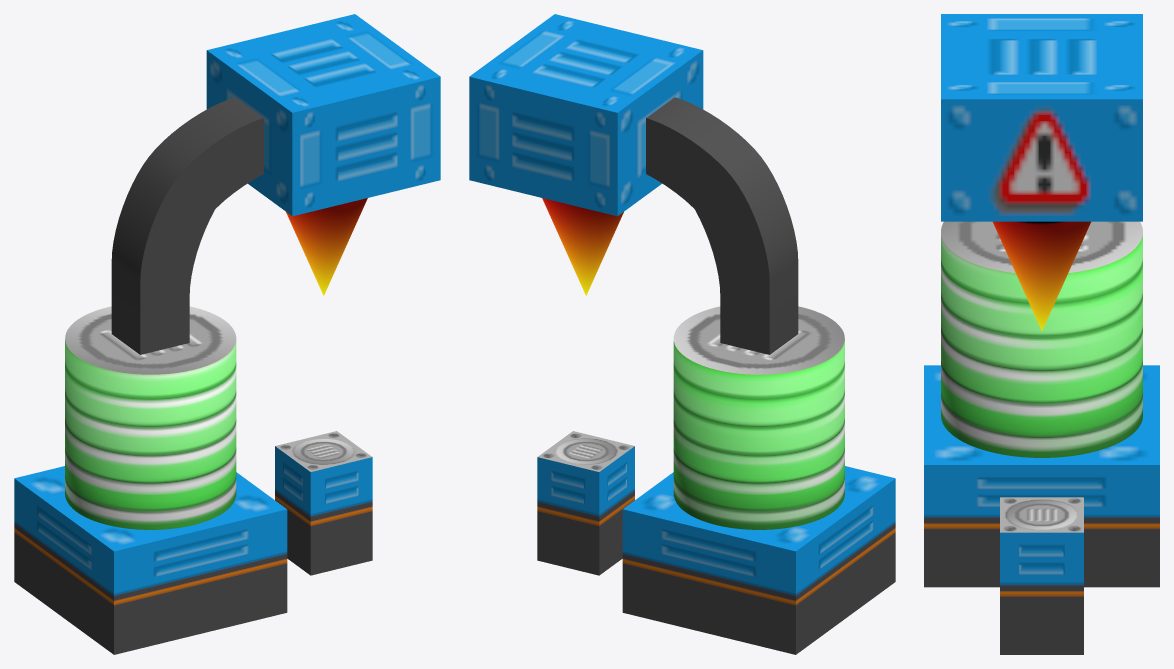
Rendered from energy.obj.
3 views of the same model, side by side, from view 1: azimuth 30°, elevation 25°; view 2: azimuth 150°, elevation 25°; view 3: azimuth 270°, elevation 25° (orthographic). The views are drawn at different scales.
Parts seen in each view (by area): view 1: ColobotMesh_1_ColobotMesh_, Bateria_ColobotMesh_.001, Elektroda_ColobotMesh_.002; view 2: ColobotMesh_1_ColobotMesh_, Bateria_ColobotMesh_.001, Elektroda_ColobotMesh_.002; view 3: ColobotMesh_1_ColobotMesh_, Bateria_ColobotMesh_.001, Elektroda_ColobotMesh_.002.
Boxes of the visible parts, x1,y1,x2,y2 form: ColobotMesh_1_ColobotMesh_: (14, 14, 440, 654); Bateria_ColobotMesh_.001: (65, 306, 236, 529); Elektroda_ColobotMesh_.002: (286, 198, 367, 295); ColobotMesh_1_ColobotMesh_: (469, 14, 895, 654); Bateria_ColobotMesh_.001: (673, 306, 844, 529); Elektroda_ColobotMesh_.002: (542, 198, 623, 295); ColobotMesh_1_ColobotMesh_: (924, 14, 1159, 654); Bateria_ColobotMesh_.001: (941, 221, 1142, 457); Elektroda_ColobotMesh_.002: (993, 221, 1090, 330).
Size of the model in its own units: 13.5 by 19 by 7.
